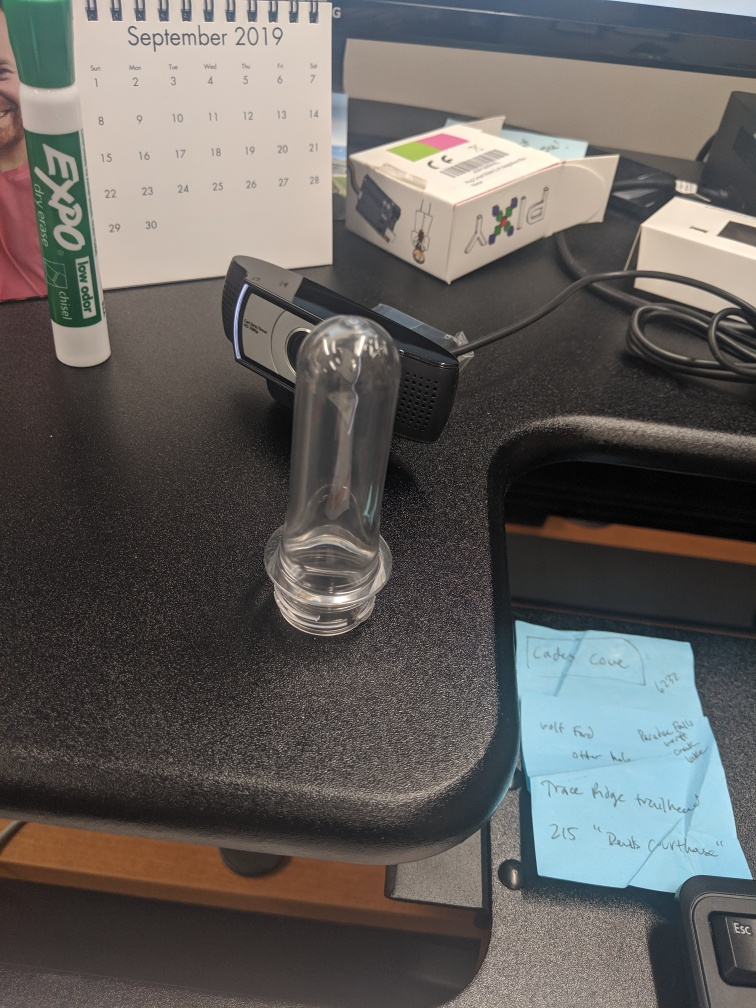preform: (257, 308, 404, 638)
